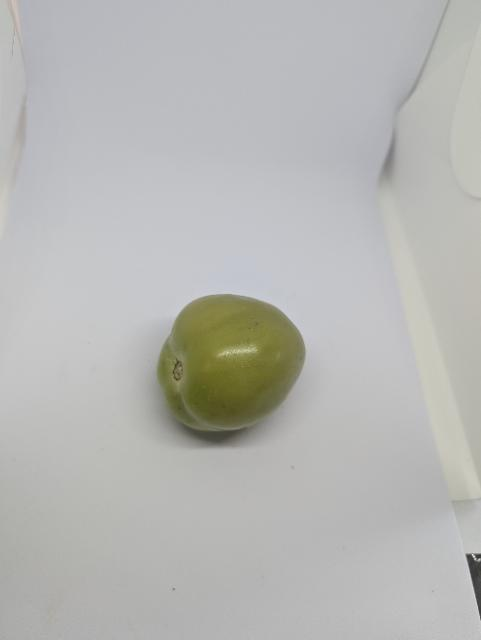green: (136, 267, 313, 459)
